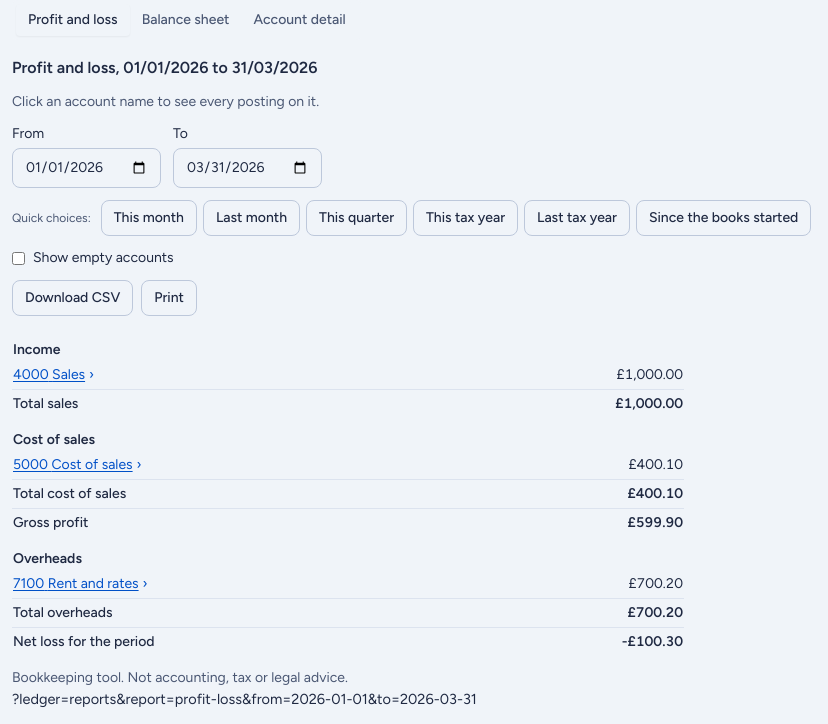
Test case: Reports: clearer shortcuts and account links › "Since the books started" sets From to the start date and To to today, and then shows as pressed
Expected: the table named "Profit and loss" is shown, [12,328,684,656]
Click the button "Since the books started": (724, 218) [636,200,811,236]
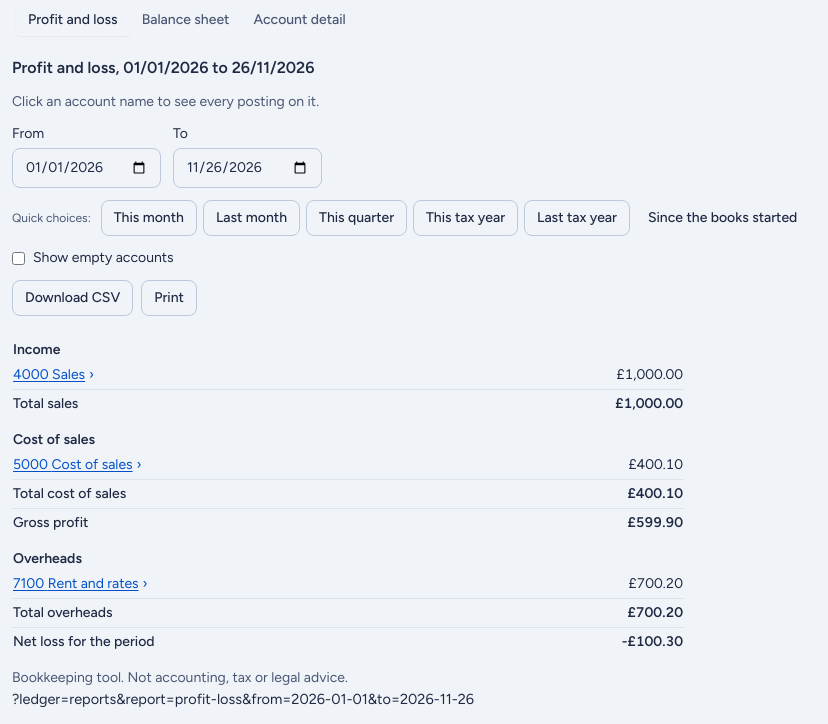
Expected: the button "Since the books started" is pressed, [636,200,809,236]
